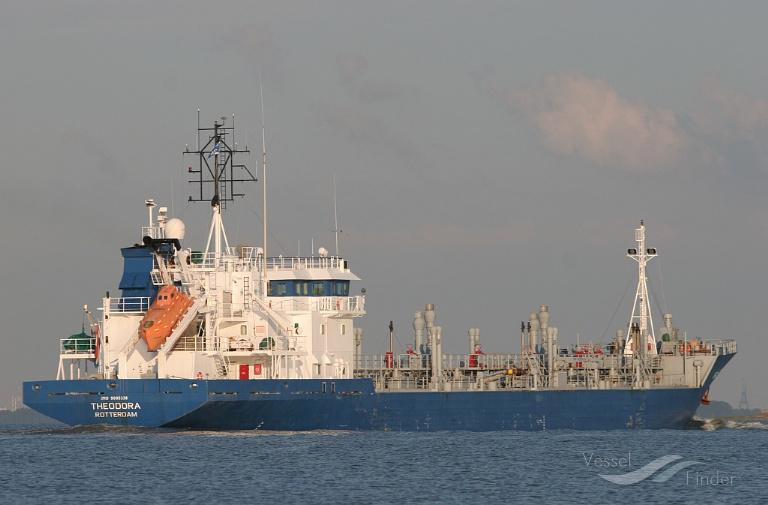OCR: (82, 389, 150, 431)
